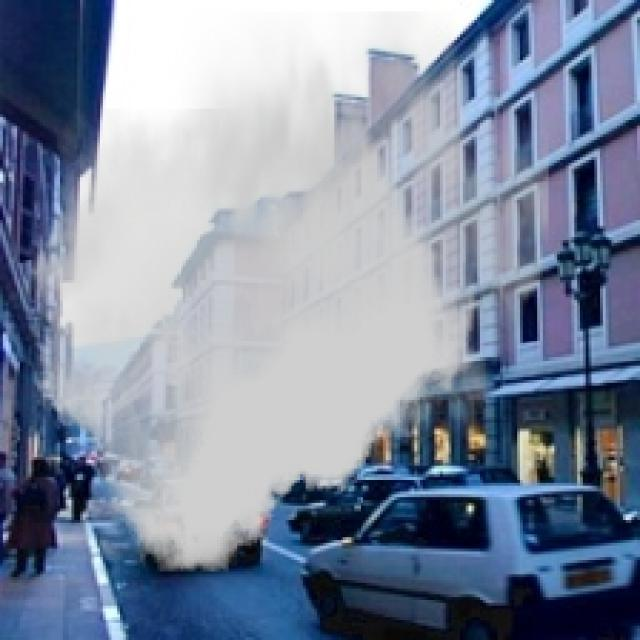Smoke: (29, 11, 548, 572)
